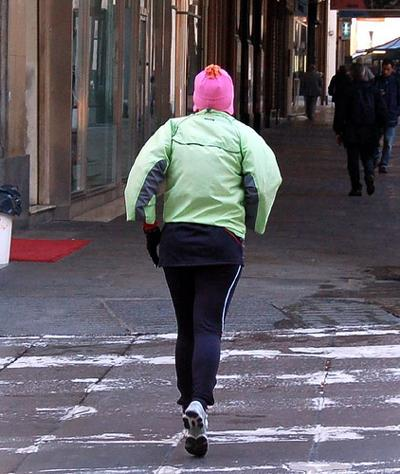person: (122, 64, 283, 463)
